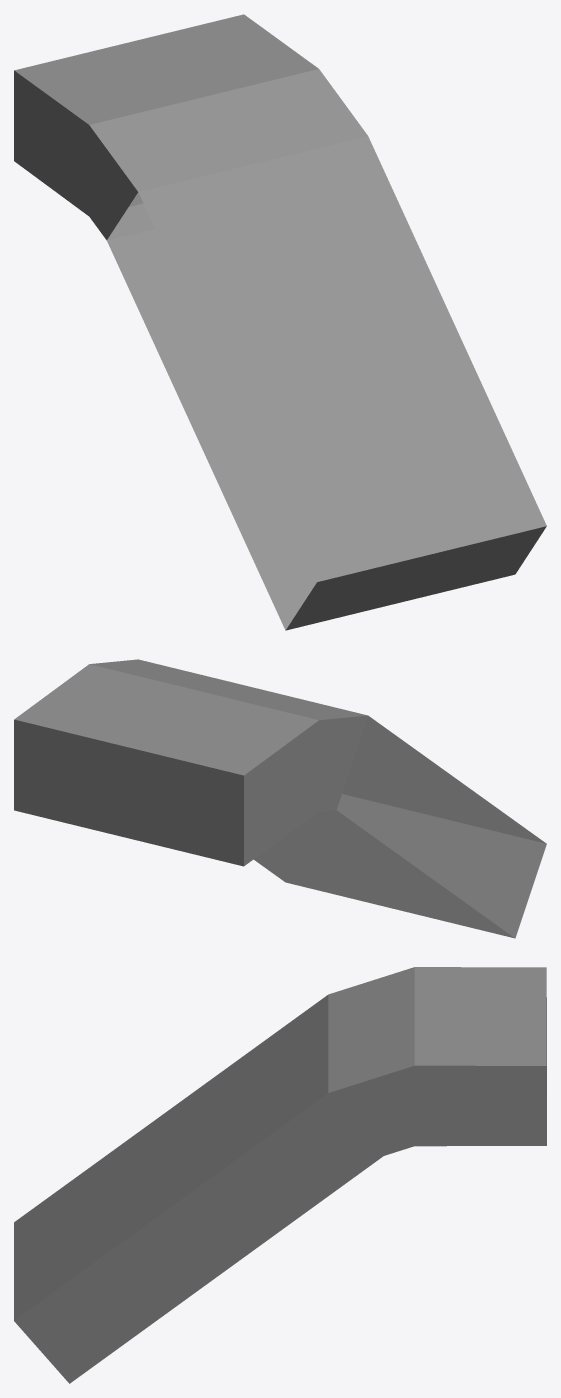
The model's file is SW_ENV_Railing_StairWall_Top_Collision.fbx.
The picture shows the model from 3 angles, top to bottom: view 1: azimuth 30°, elevation 25°; view 2: azimuth 150°, elevation 25°; view 3: azimuth 270°, elevation 25°; orthographic projection. The views are drawn at different scales.
Parts seen in each view (by area): view 1: SW_ENV_Railing_StairWall_Top_Collision; view 2: SW_ENV_Railing_StairWall_Top_Collision; view 3: SW_ENV_Railing_StairWall_Top_Collision.
Boxes of the visible parts, x1,y1,x2,y2 form: SW_ENV_Railing_StairWall_Top_Collision: (14, 14, 546, 630); SW_ENV_Railing_StairWall_Top_Collision: (14, 659, 546, 938); SW_ENV_Railing_StairWall_Top_Collision: (14, 967, 546, 1383).
Bounding box in the file's own units: 0.1856 × 0.2793 × 0.4239.
